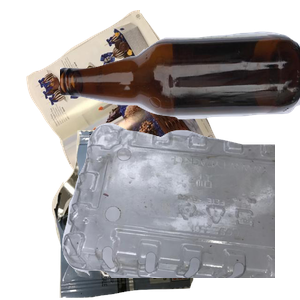glass: (60, 29, 300, 141)
paper: (24, 10, 235, 190)
plastic: (60, 120, 300, 300)
trash: (49, 130, 235, 300)
